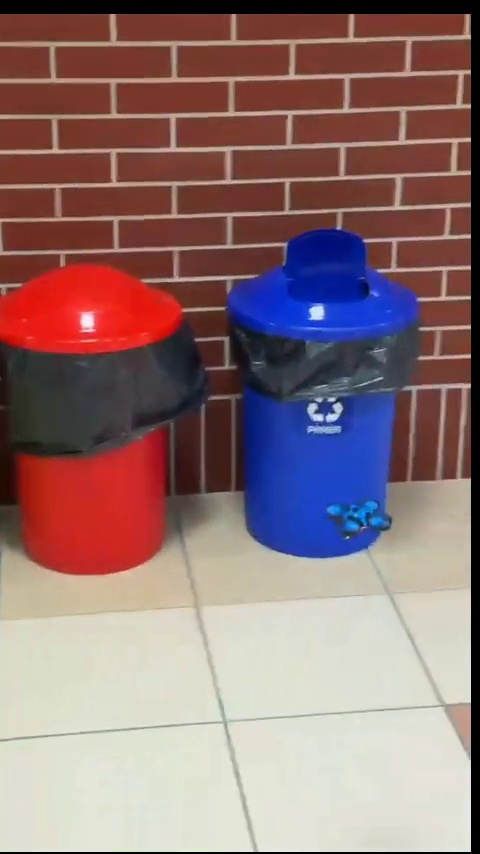drone: (326, 503, 389, 538)
